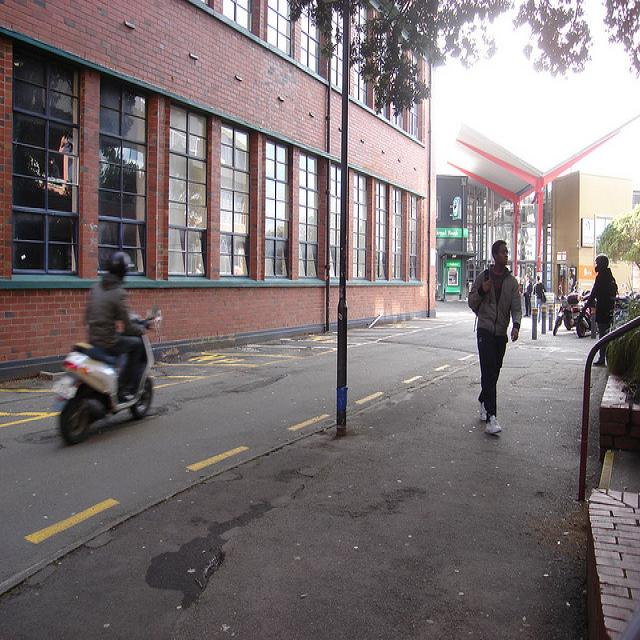motor: (54, 311, 162, 443), (553, 295, 584, 336), (576, 307, 591, 338)
